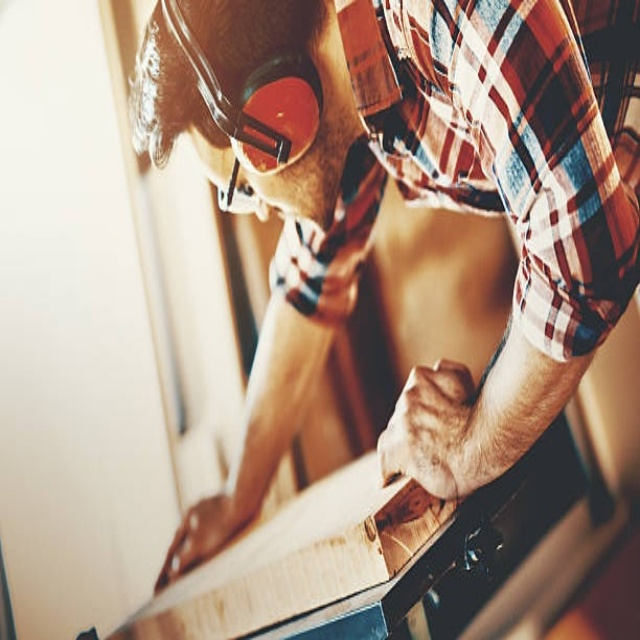Gafas: (203, 147, 262, 223)
Sin_guantes: (375, 357, 479, 505), (154, 484, 253, 589)
Sin_mascara: (272, 167, 339, 237)
